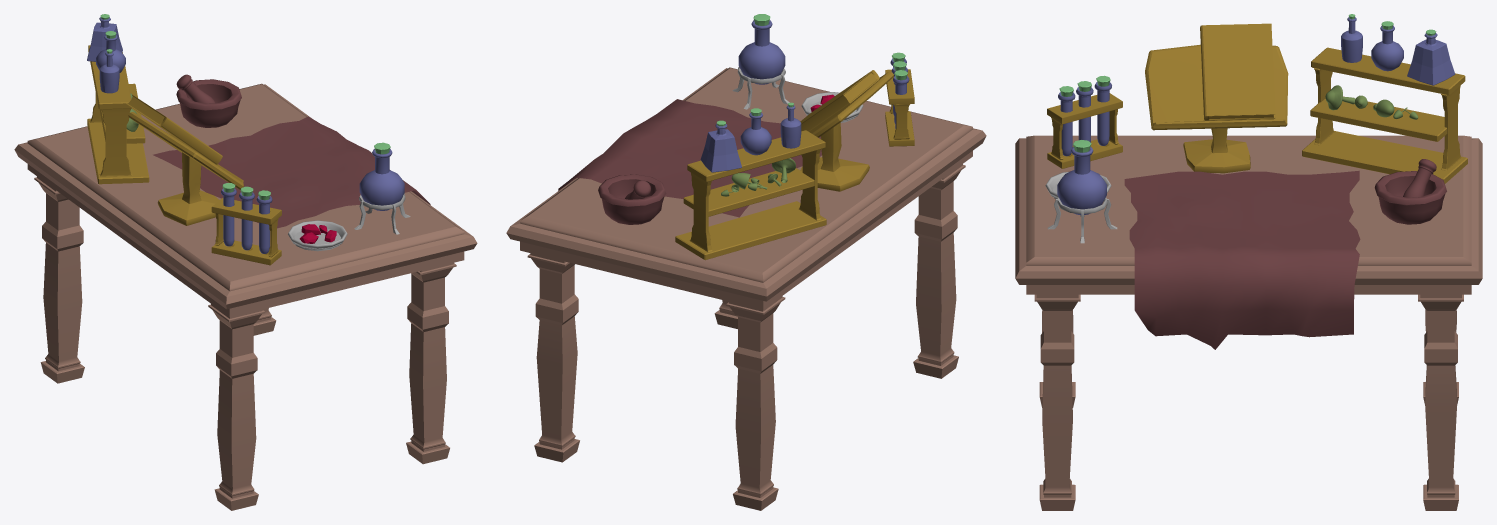
Rendered from AlchemyTable.fbx.
3 renders of one model, left to right at view 1: azimuth 30°, elevation 25°; view 2: azimuth 150°, elevation 25°; view 3: azimuth 270°, elevation 25°, orthographic. The views are drawn at different scales.
Visible parts, largest first — view 1: AlchemyTable; view 2: AlchemyTable; view 3: AlchemyTable.
Part boxes in pixels (x1,y1,x2,y2): AlchemyTable: (14,14,477,510); AlchemyTable: (506,14,986,510); AlchemyTable: (1015,14,1482,510).
Size of the model in its own units: 95.8 by 123 by 134.
